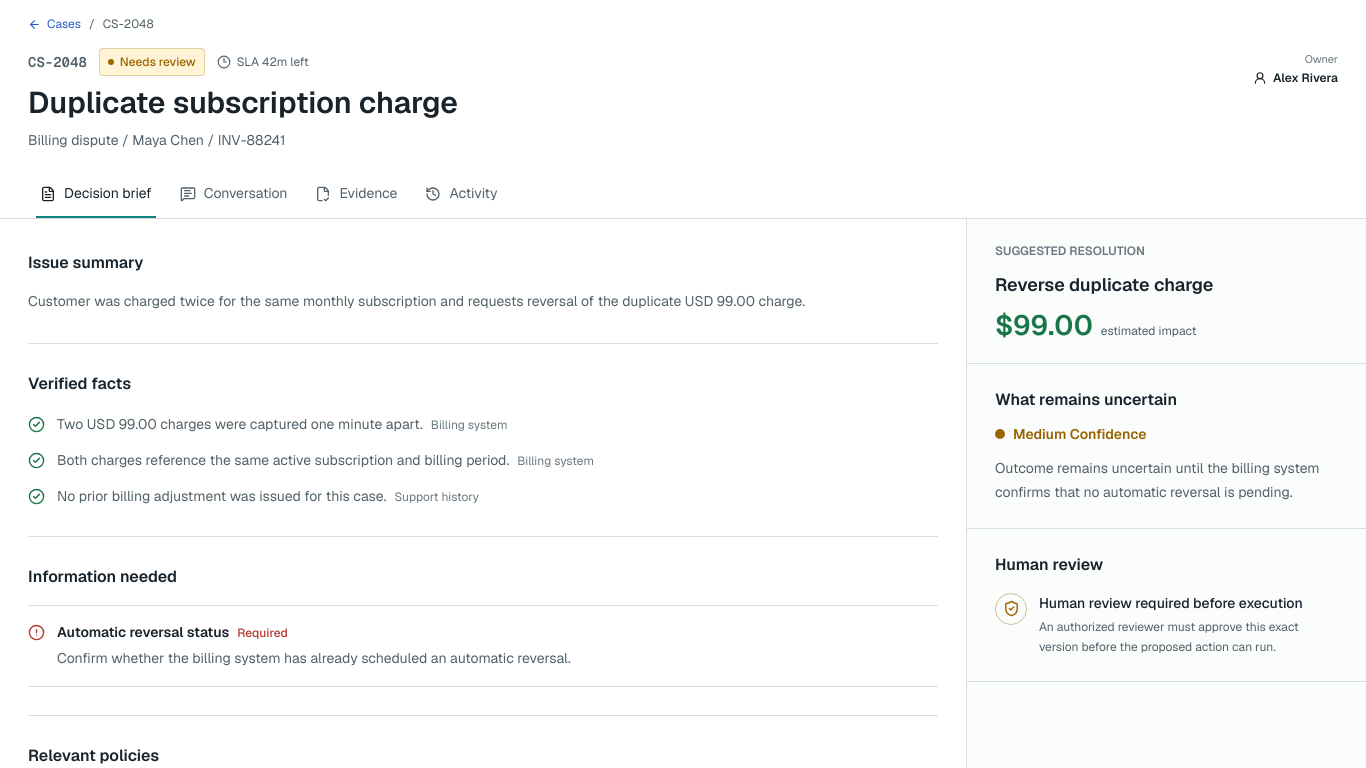
CaseWorkspace › does not show write controls to a read-only case viewer
This screenshot has width=1366, height=768.
Click the tab "Conversation".
click(234, 194)  # box left=168, top=170, right=300, bottom=218
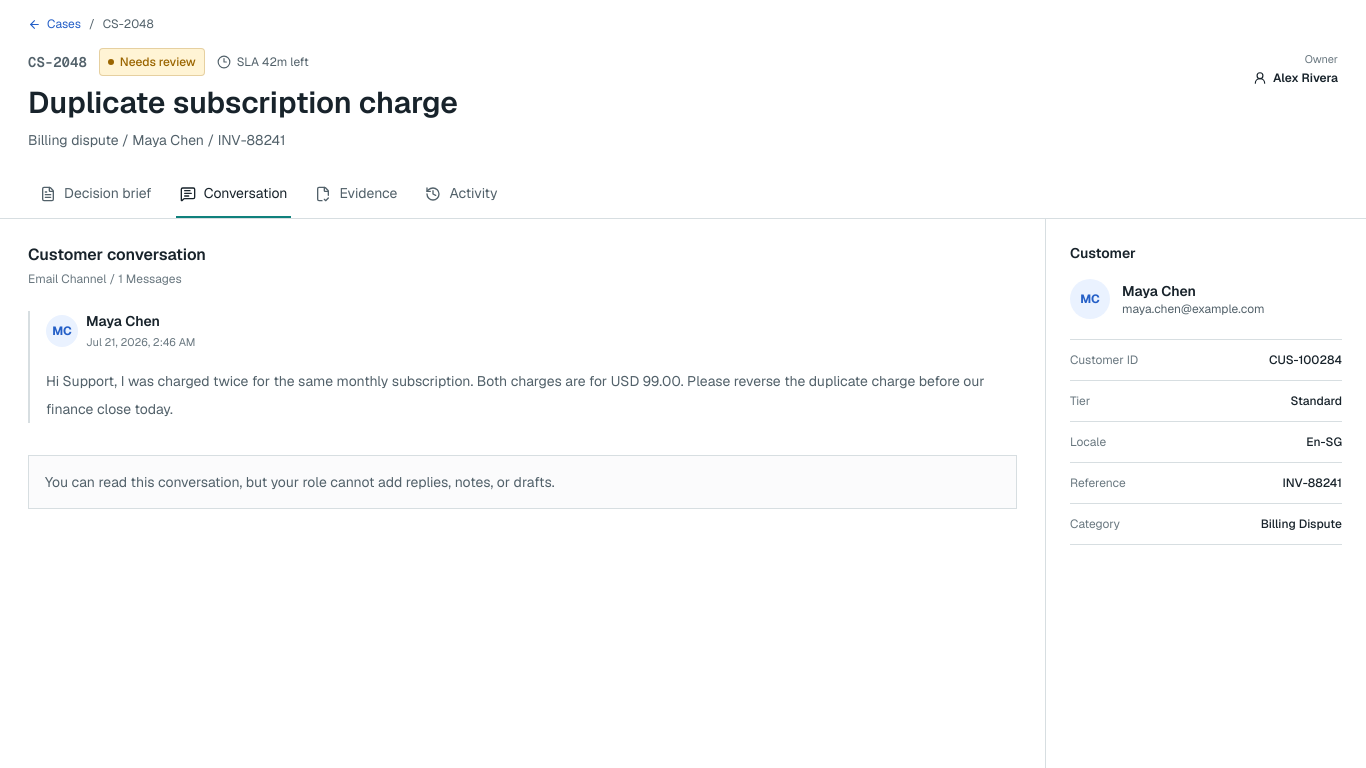
Expected: the text "your role cannot add replies" is shown, left=45, top=473, right=554, bottom=491
